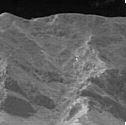Target: (72, 53, 81, 62)
